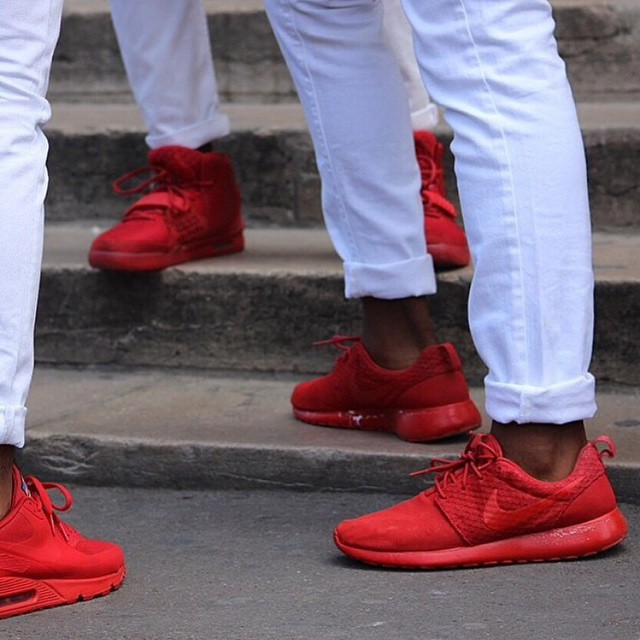sneaker: (316, 410, 640, 587), (273, 286, 498, 456), (1, 426, 147, 626), (74, 141, 261, 282), (394, 123, 478, 276)
